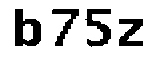5: (84, 7, 114, 49)
7: (48, 5, 81, 50)
b: (10, 7, 45, 51)
z: (115, 15, 149, 47)
